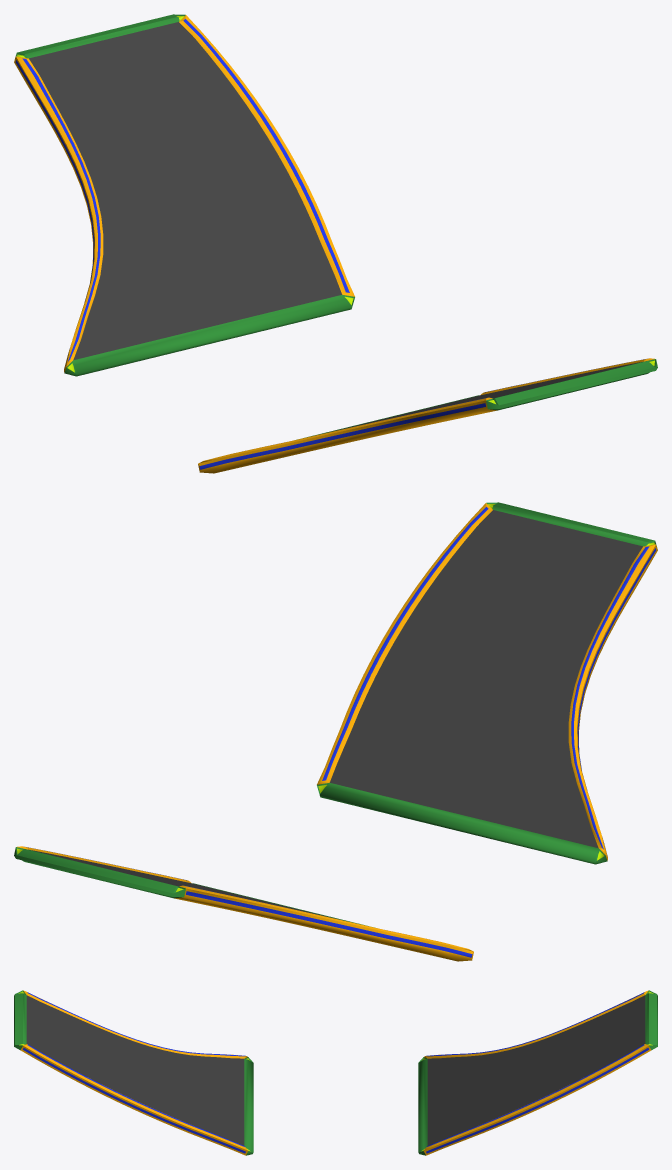
The model's file is Side Ramp Top top level.FBX.
The picture shows the model from 3 angles, top to bottom: view 1: azimuth 30°, elevation 25°; view 2: azimuth 150°, elevation 25°; view 3: azimuth 270°, elevation 25°; orthographic projection. The views are drawn at different scales.
Visible parts, largest first — view 1: Platform to second Level019, Platform to second Level020; view 2: Platform to second Level020, Platform to second Level019; view 3: Platform to second Level019, Platform to second Level020.
Part boxes in pixels (x1,y1,x2,y2): Platform to second Level019: [14, 14, 354, 376]; Platform to second Level020: [198, 358, 657, 473]; Platform to second Level020: [317, 502, 657, 864]; Platform to second Level019: [14, 846, 473, 961]; Platform to second Level019: [418, 990, 657, 1155]; Platform to second Level020: [14, 990, 253, 1155].
Bounding box in the file's own units: 14.71 × 7.61 × 40.02.
